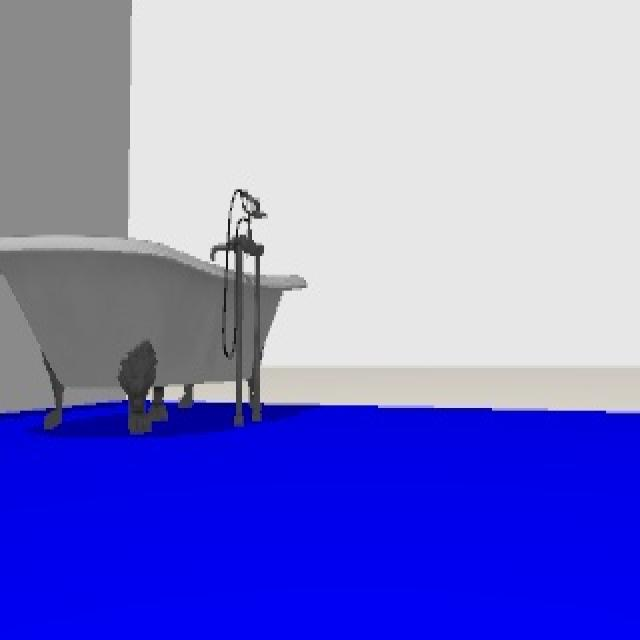bathtub: (0, 181, 310, 432)
